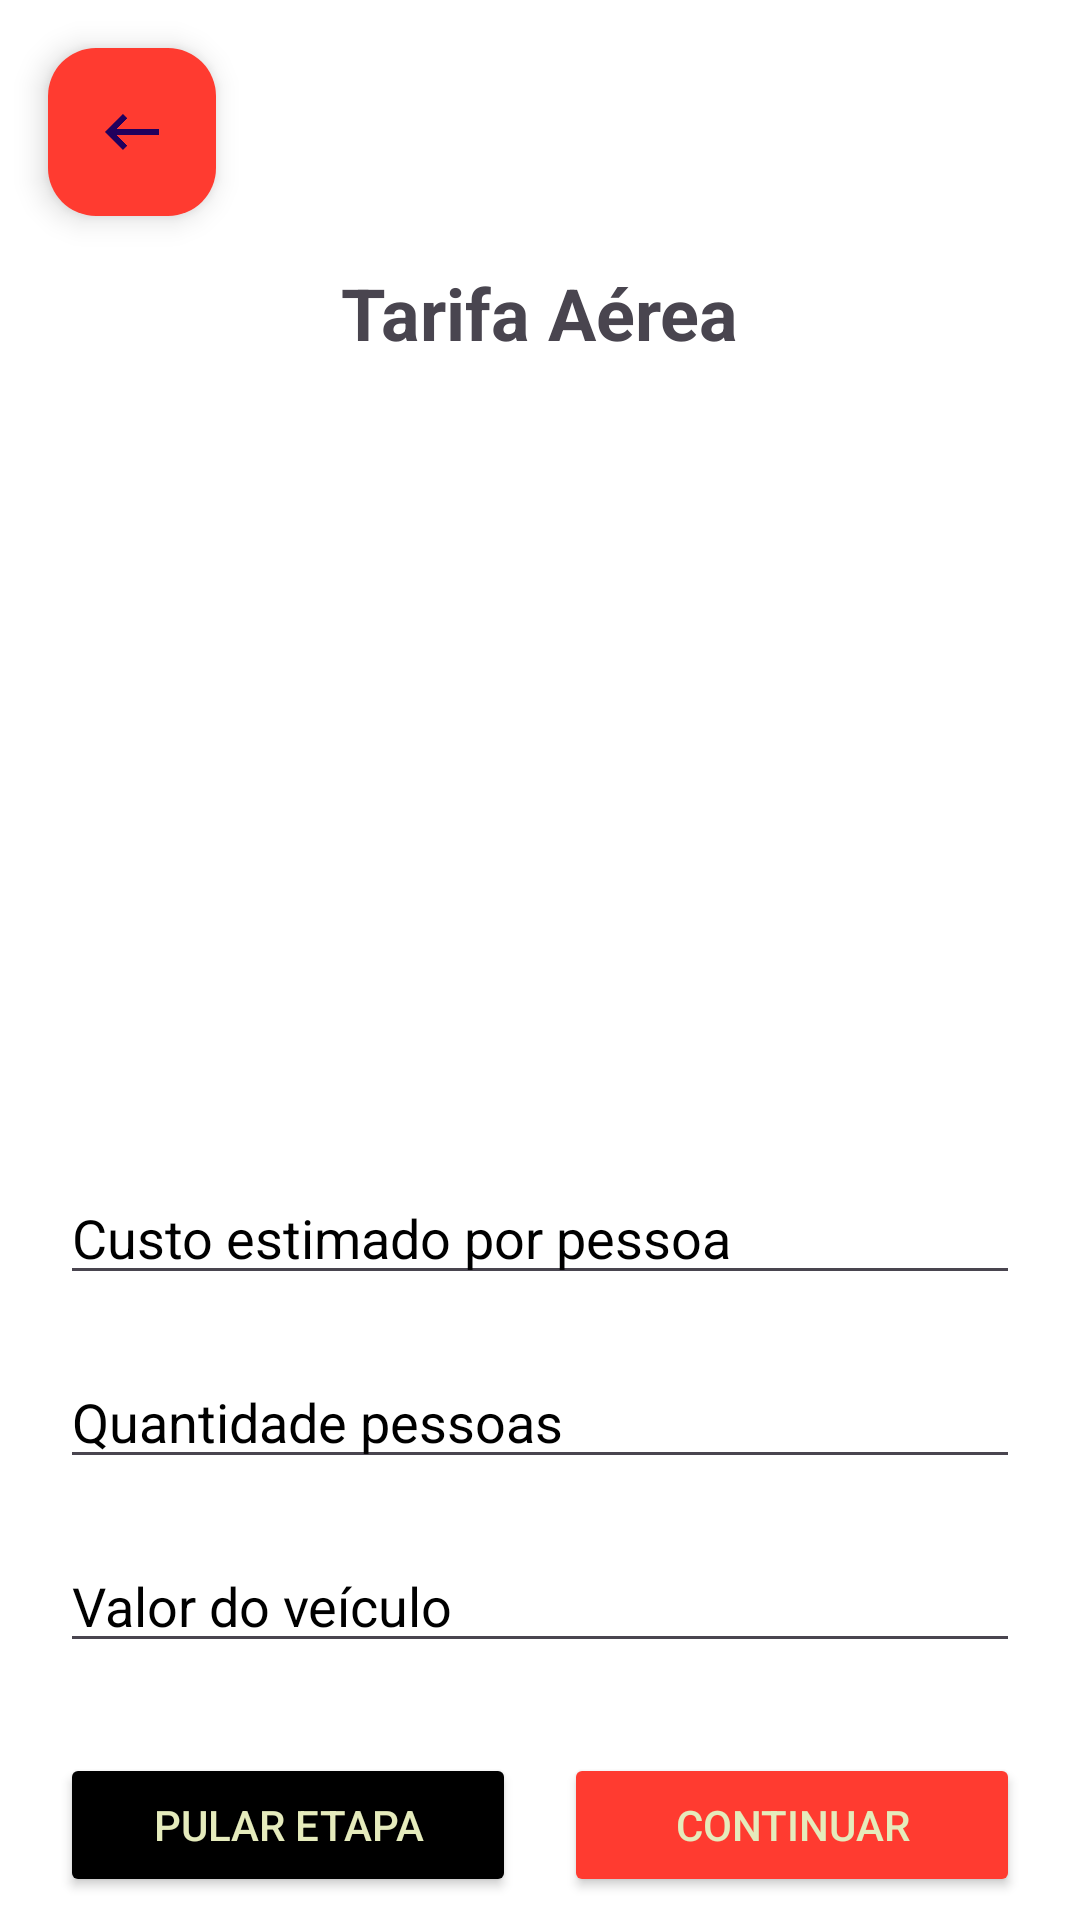

Icons on this 1080x1920 Android screen, each with its box as [x1,y1,x2,y2]:
back arrow: [48,48,216,216]
